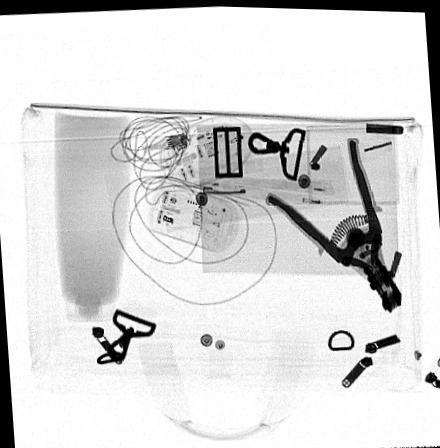Pliers: (265, 136, 403, 312)
